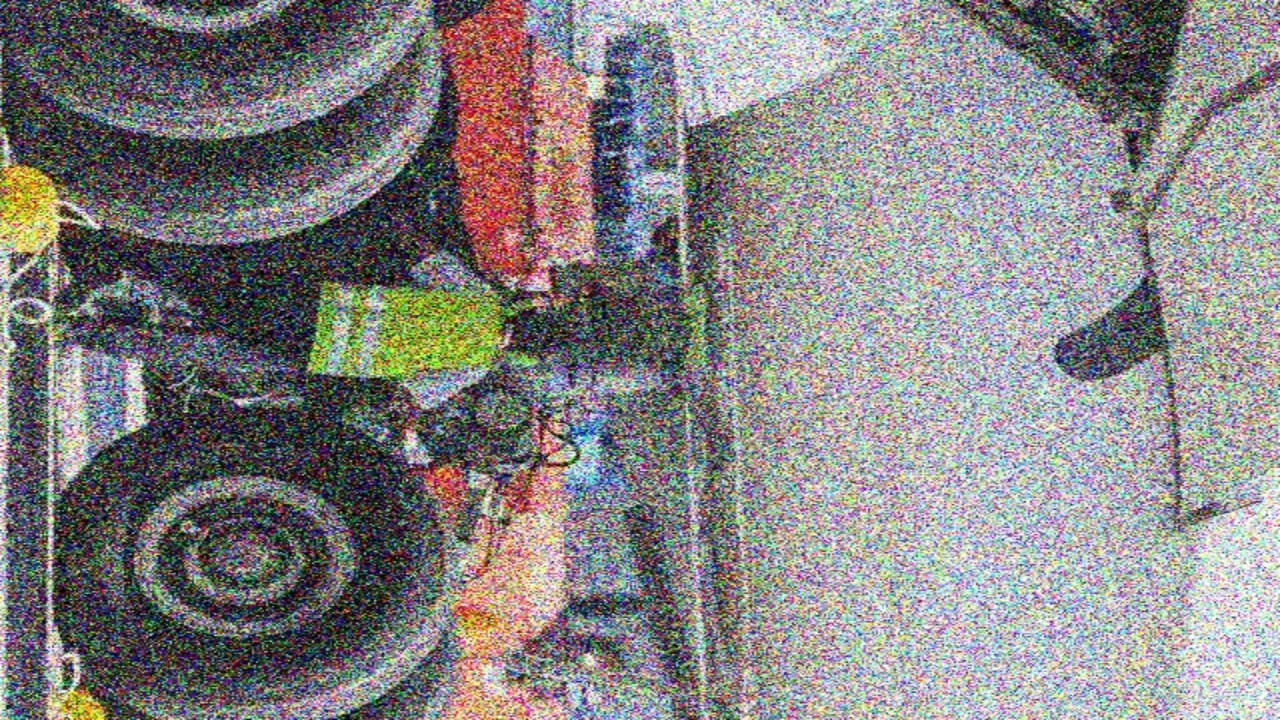chock: (0, 162, 74, 258), (44, 684, 110, 720)
wheel: (60, 405, 464, 720), (10, 0, 448, 254), (0, 0, 446, 156), (82, 605, 464, 720), (424, 0, 512, 31)
